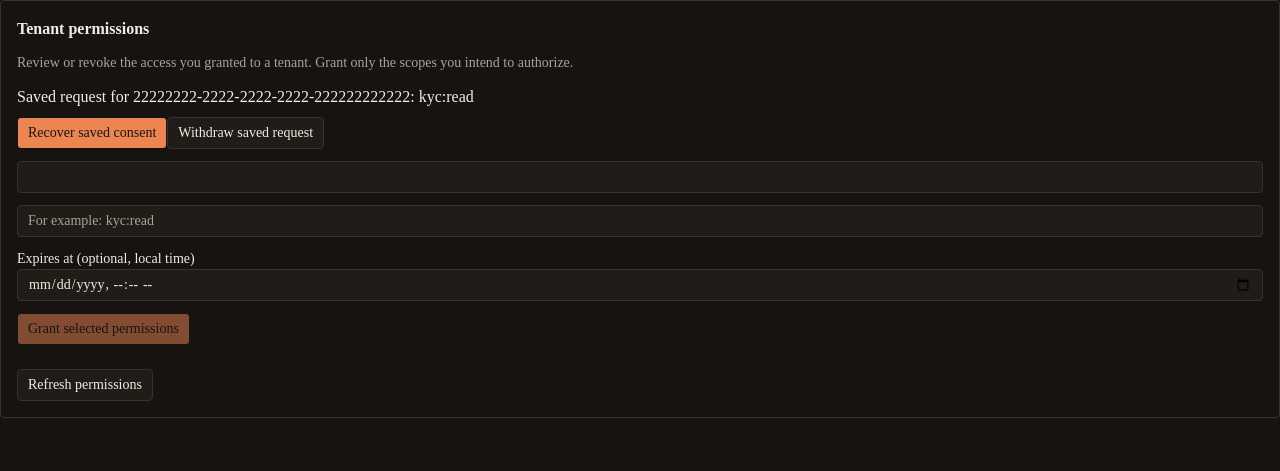
Scenario: retains a command when a response claims different permissions
This screenshot has width=1280, height=471.
Click the button "Recover saved consent": (92, 133) [17,117,167,149]
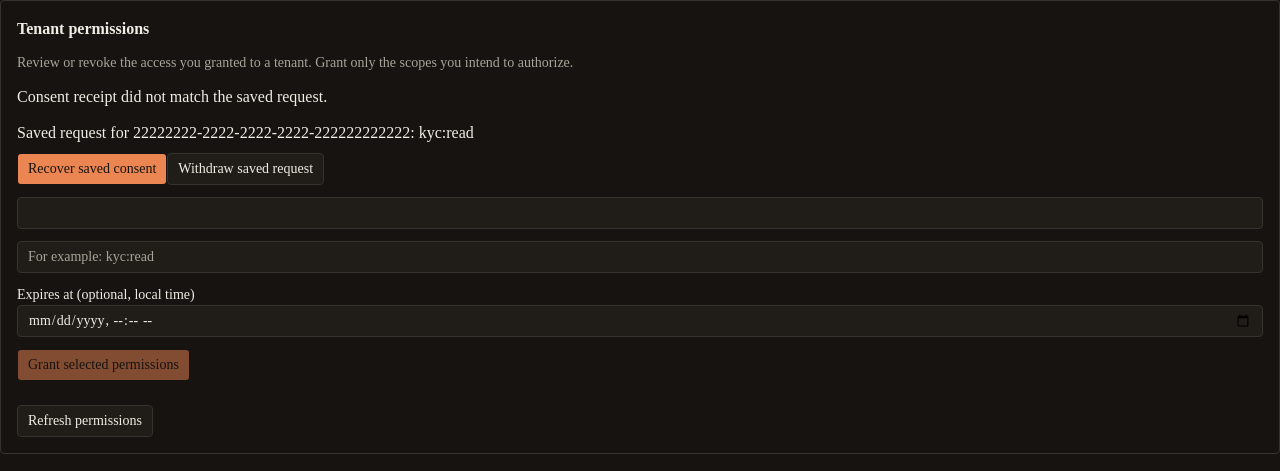
Expected: the text "Consent receipt did not match the saved request." is shown, [17,88,327,105]
